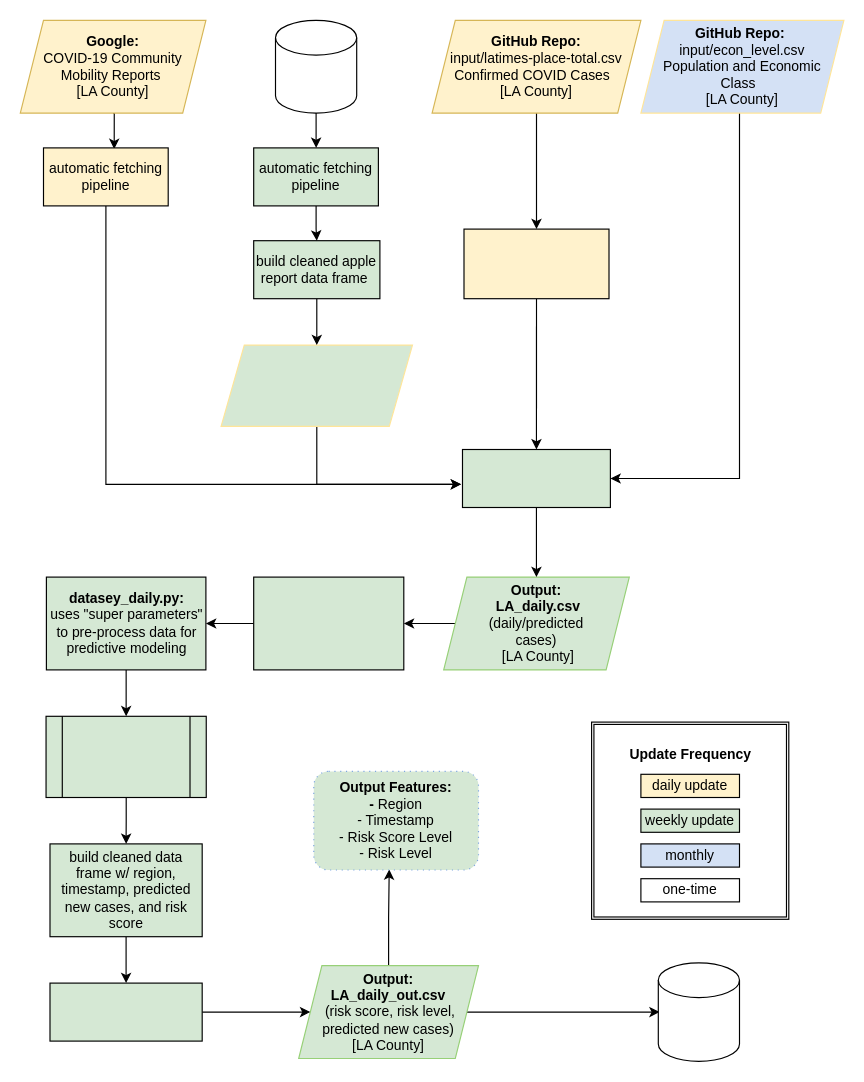
Some shapes in this 864 by 1082 pixel diagram are drawn without their labels. Each missing label, with the centre of its shape:
Apple API: point 315,66
calculate daily new cases and future cases on average: point 536,263
calculate risk level: point 125,1011
extract features needed from each data source and merge: point 535,477
IBM Cloud: point 698,1011
Input: apple_reports/ applemobilitytrends.csv [Apple Mobility Reports]: point 316,385
LSTM model : used to train/test data and calculate risk score: point 125,756
parameter_daily.py: define "super parameters" used to train data: point 328,623
